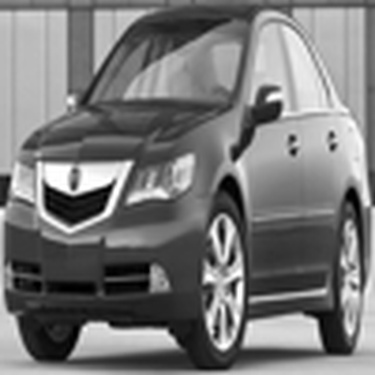car: (5, 4, 373, 372)
